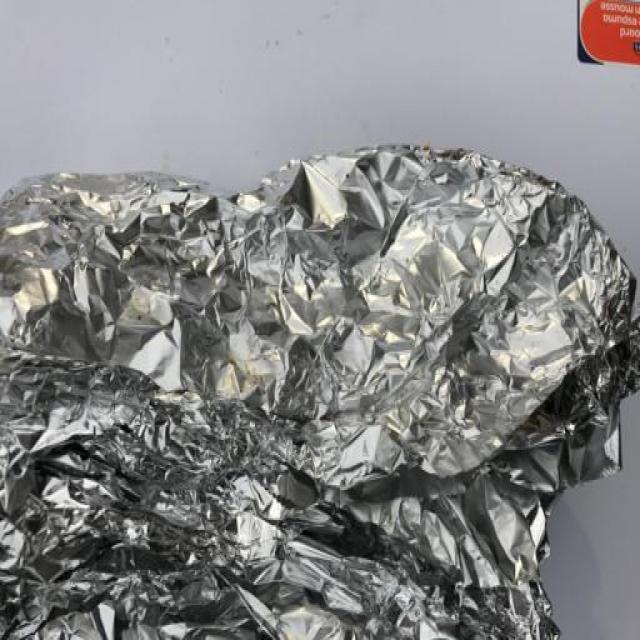others: (6, 109, 640, 640)
